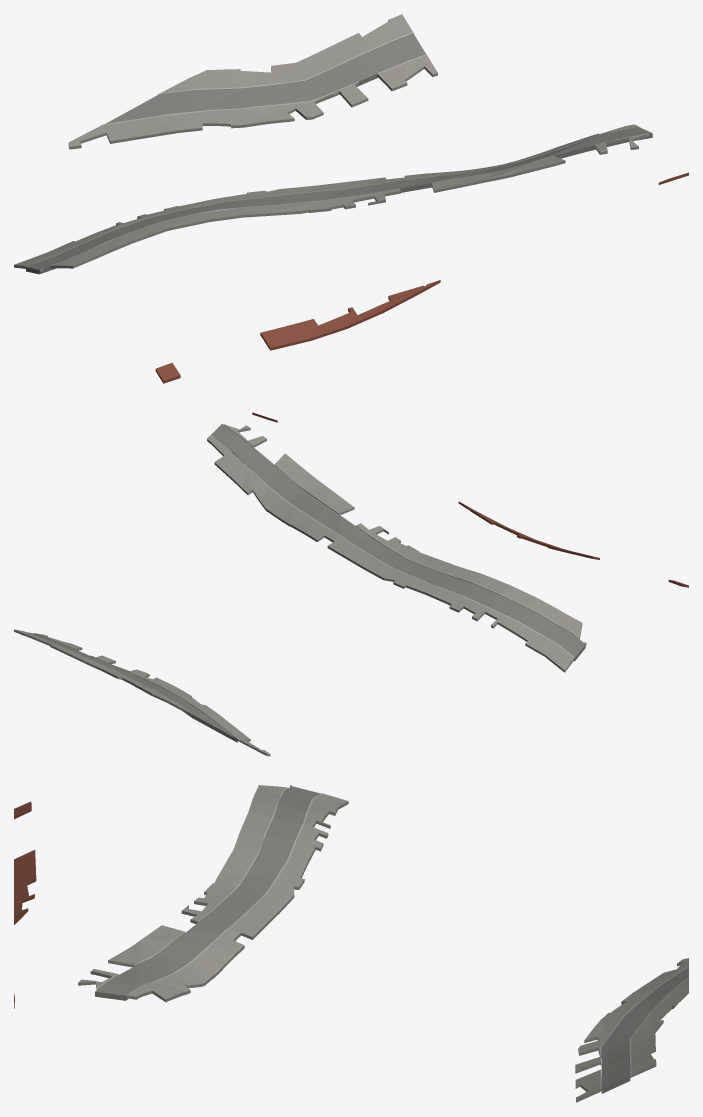
3 renders of one model, top to bottom at view 1: azimuth 30°, elevation 25°; view 2: azimuth 150°, elevation 25°; view 3: azimuth 270°, elevation 25°, orthographic. The views are drawn at different scales.
Size of the model in its own units: 147 by 34.84 by 146.
